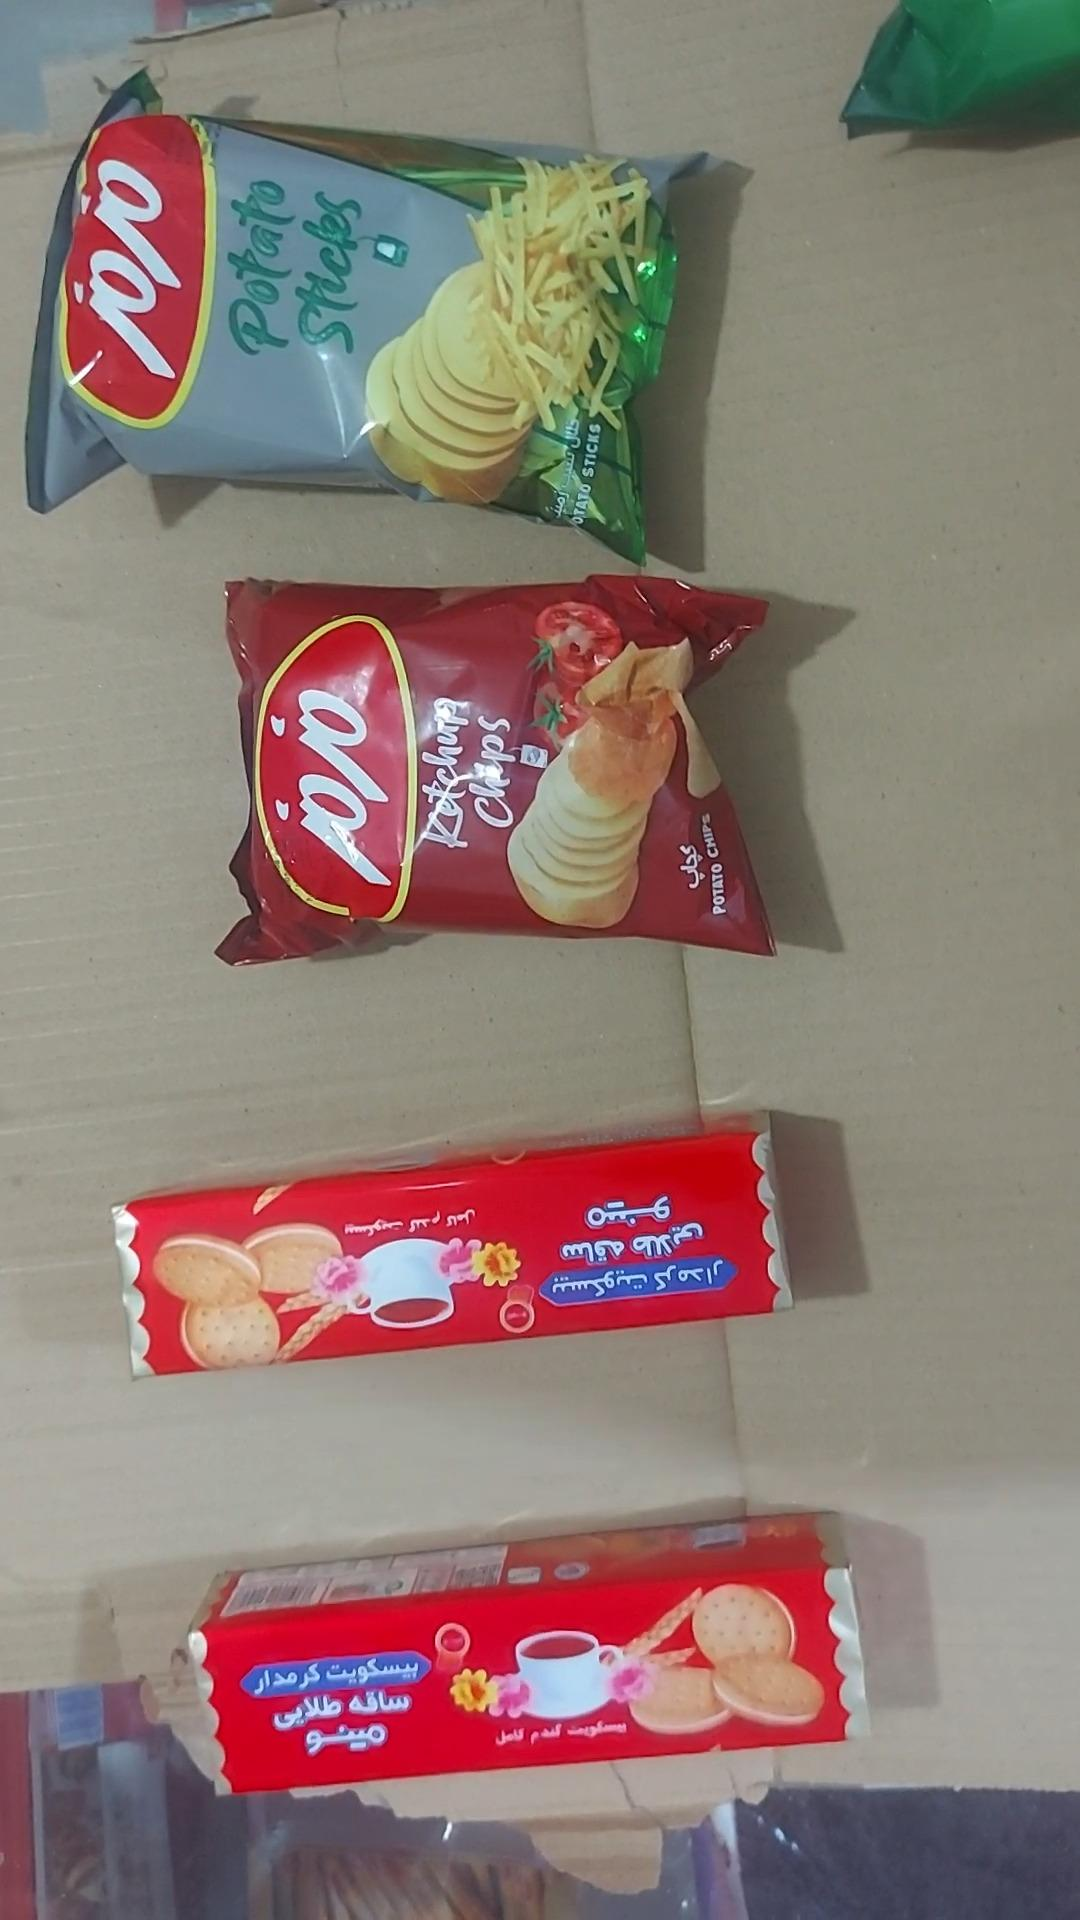Maz Maz ketchup chips: (214, 574, 775, 971)
Maz Maz potato sticks: (25, 73, 712, 567)
Minoo cream biscuit: (189, 1513, 878, 1795), (113, 1112, 794, 1379)
